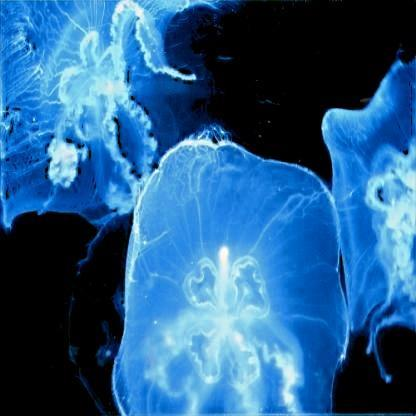Speckle: (112, 136, 350, 412), (3, 4, 227, 227), (322, 56, 416, 380)
